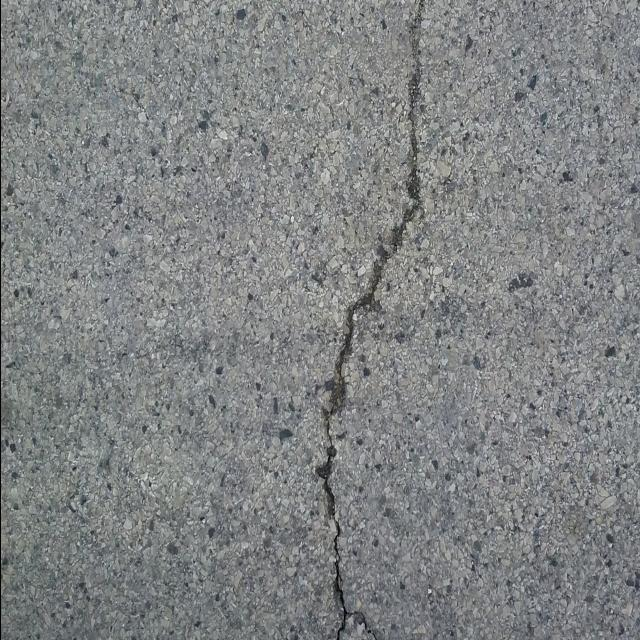Crack: (314, 0, 425, 640)
